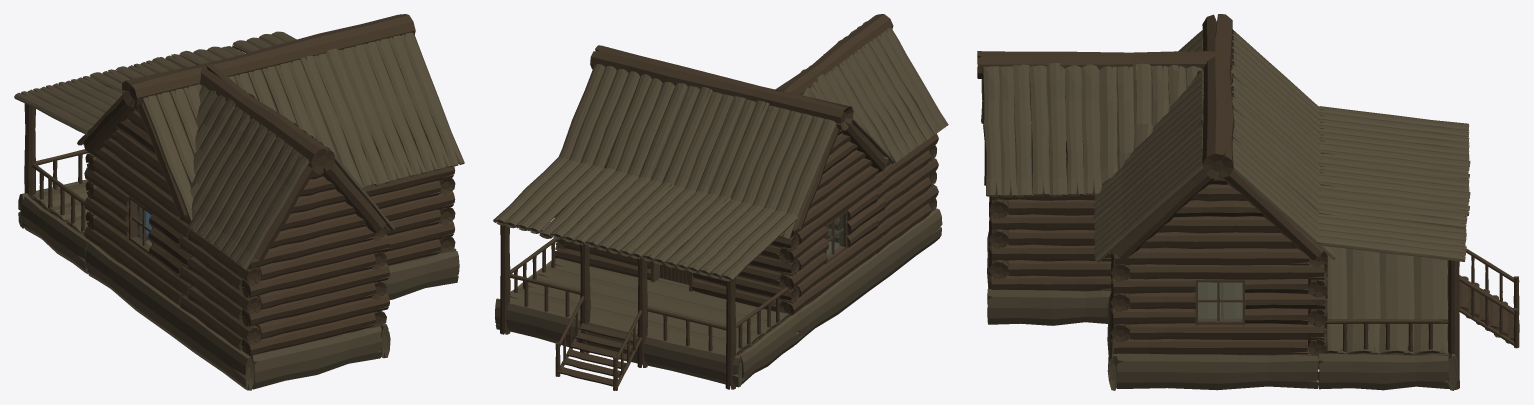
Rendered from cabin_V3.fbx.
3 renders of one model, left to right at view 1: azimuth 30°, elevation 25°; view 2: azimuth 150°, elevation 25°; view 3: azimuth 270°, elevation 25°, orthographic. The views are drawn at different scales.
Visible parts, largest first — view 1: Cabin_Merged1; view 2: Cabin_Merged1, Front_Door; view 3: Cabin_Merged1.
Boxes of the visible parts, left/top/right/bottom form: Cabin_Merged1: left=14, top=14, right=464, bottom=390; Cabin_Merged1: left=493, top=14, right=948, bottom=390; Front_Door: left=660, top=264, right=689, bottom=284; Cabin_Merged1: left=977, top=14, right=1519, bottom=390.
Size of the model in its own units: 94.3 by 76.58 by 154.
